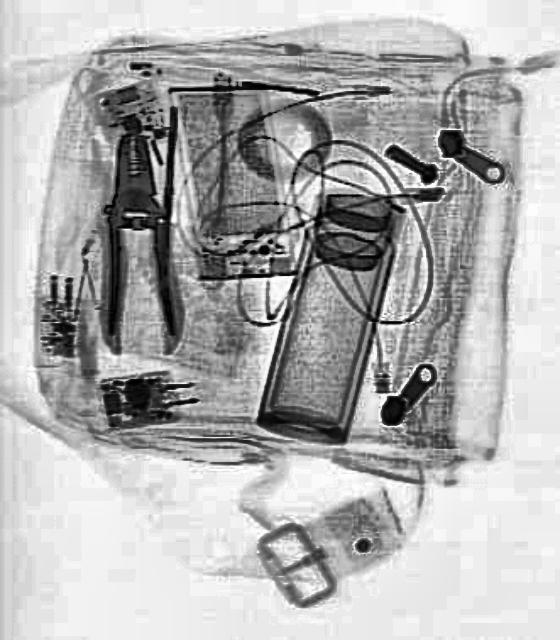Pliers: (98, 130, 172, 336)
